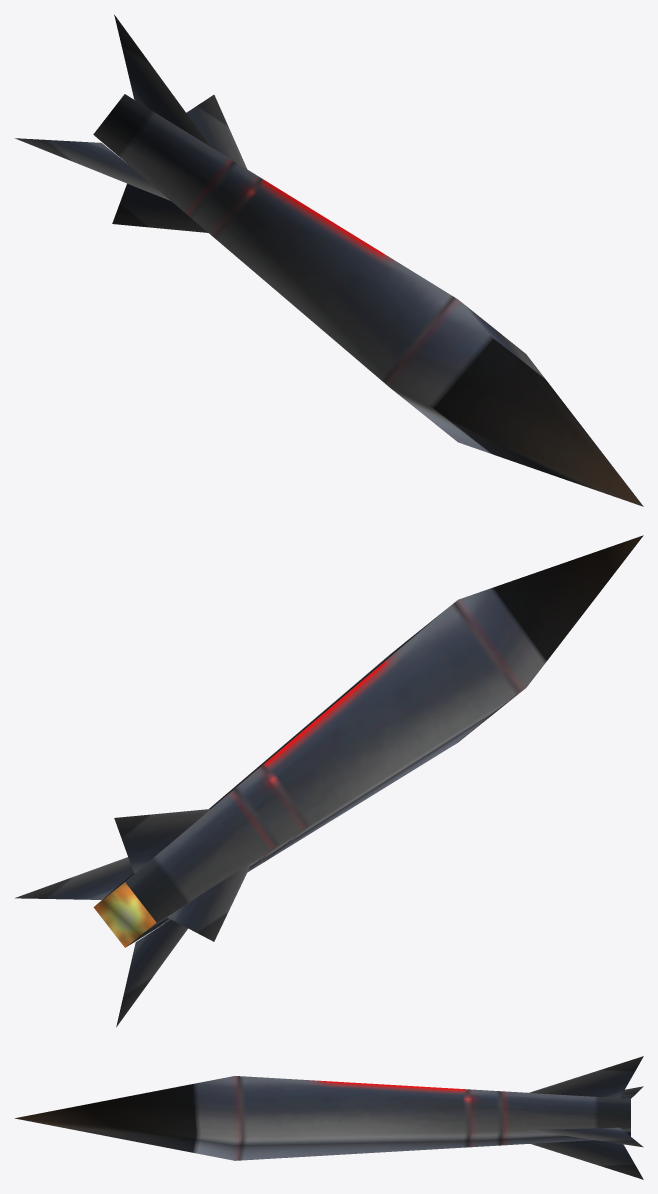
Rendered from missile02.FBX.
The picture shows the model from 3 angles, top to bottom: view 1: azimuth 30°, elevation 25°; view 2: azimuth 150°, elevation 25°; view 3: azimuth 270°, elevation 25°; orthographic projection. The views are drawn at different scales.
Parts seen in each view (by area): view 1: missile02; view 2: missile02; view 3: missile02.
Part boxes in pixels (box(x1,y1,x2,y2)): missile02: box(15, 14, 643, 506); missile02: box(15, 535, 643, 1027); missile02: box(15, 1056, 643, 1179).
Size of the model in its own units: 12.33 by 12.32 by 56.51.
